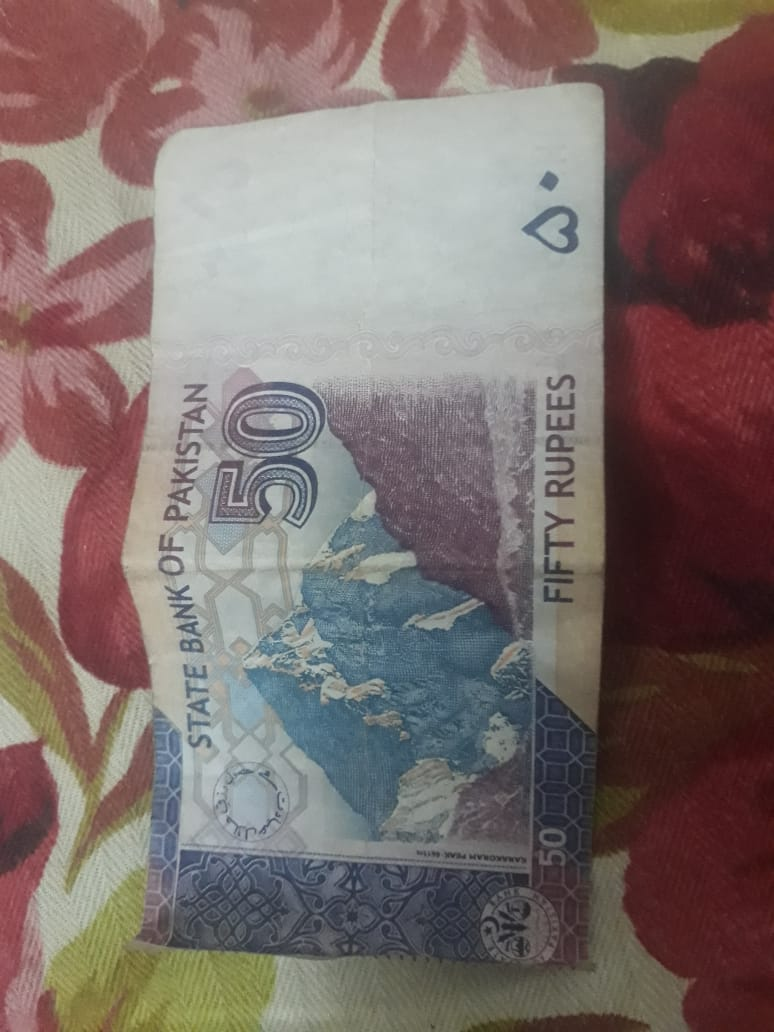50 rupee: (82, 81, 633, 995)
